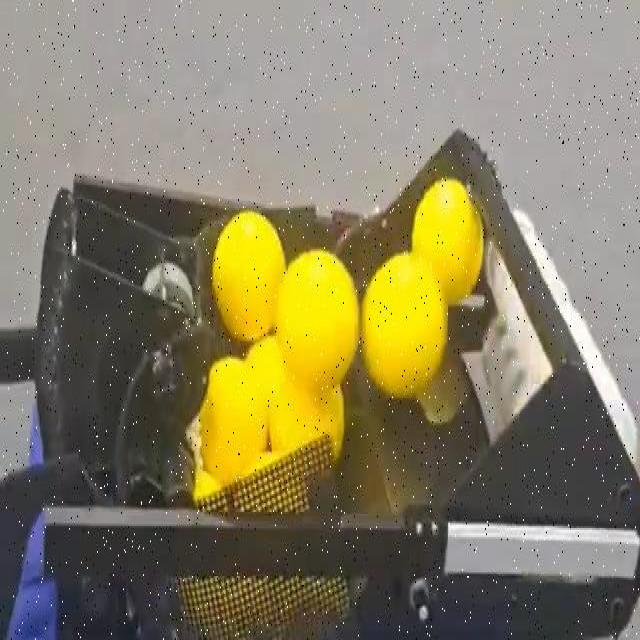Fuel: (362, 253, 447, 397), (362, 253, 446, 397), (275, 249, 358, 389), (212, 211, 285, 342), (212, 212, 285, 340), (412, 178, 484, 304), (412, 178, 483, 302), (201, 358, 267, 483), (269, 377, 343, 457), (245, 336, 283, 402), (193, 470, 220, 500)
